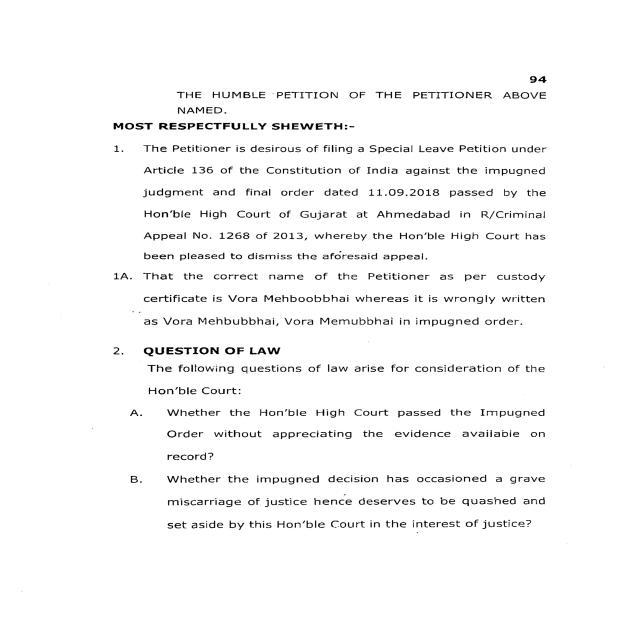page-number: (465, 33, 640, 89)
